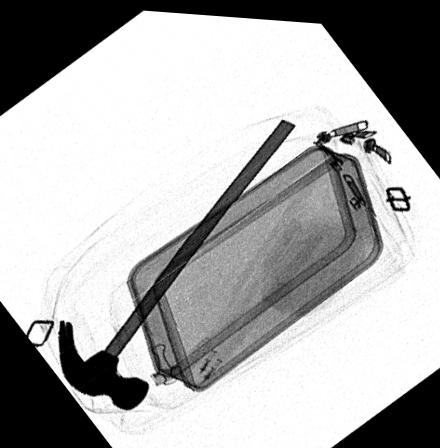Hammer: (56, 112, 295, 409)
